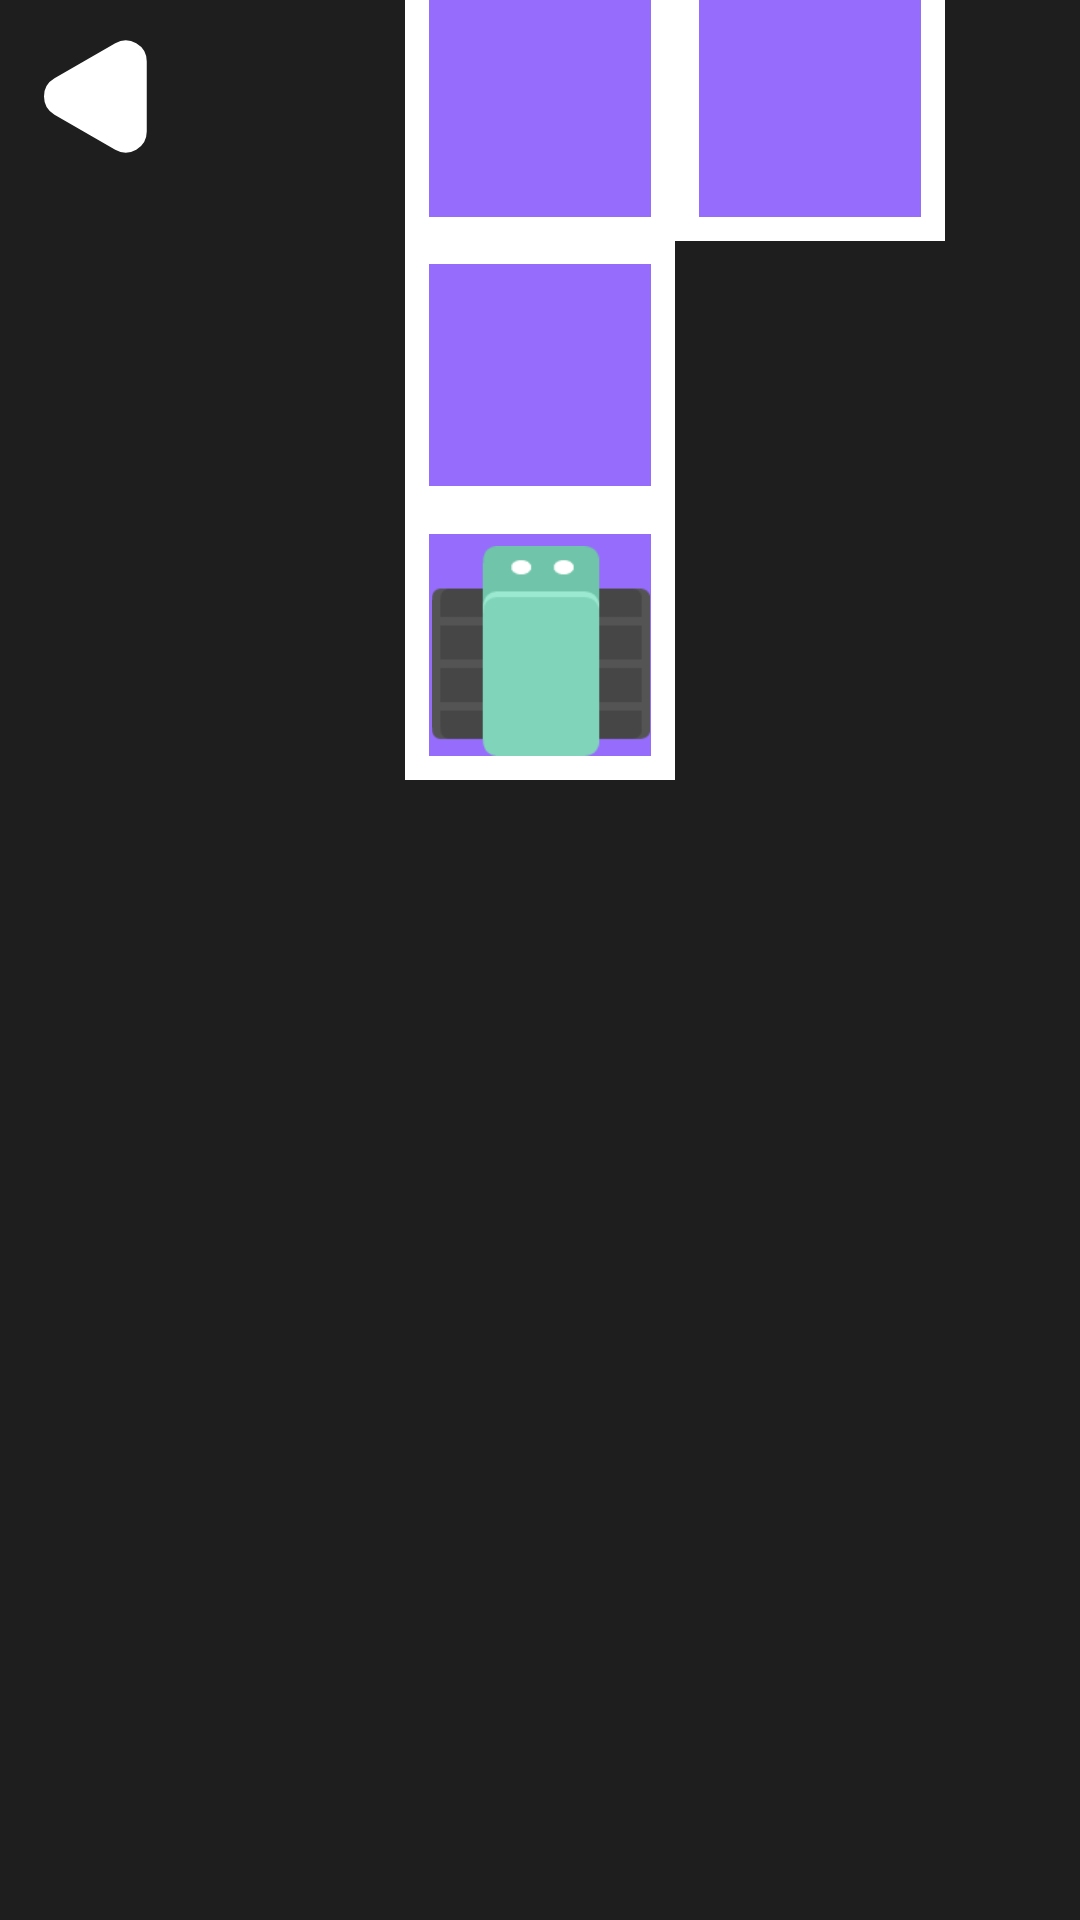

Where to tap for icons on this 1080 × 1920 app screen, as (x=x, y=y):
Boton para ir a la pantalla anterior: (x=95, y=96)
